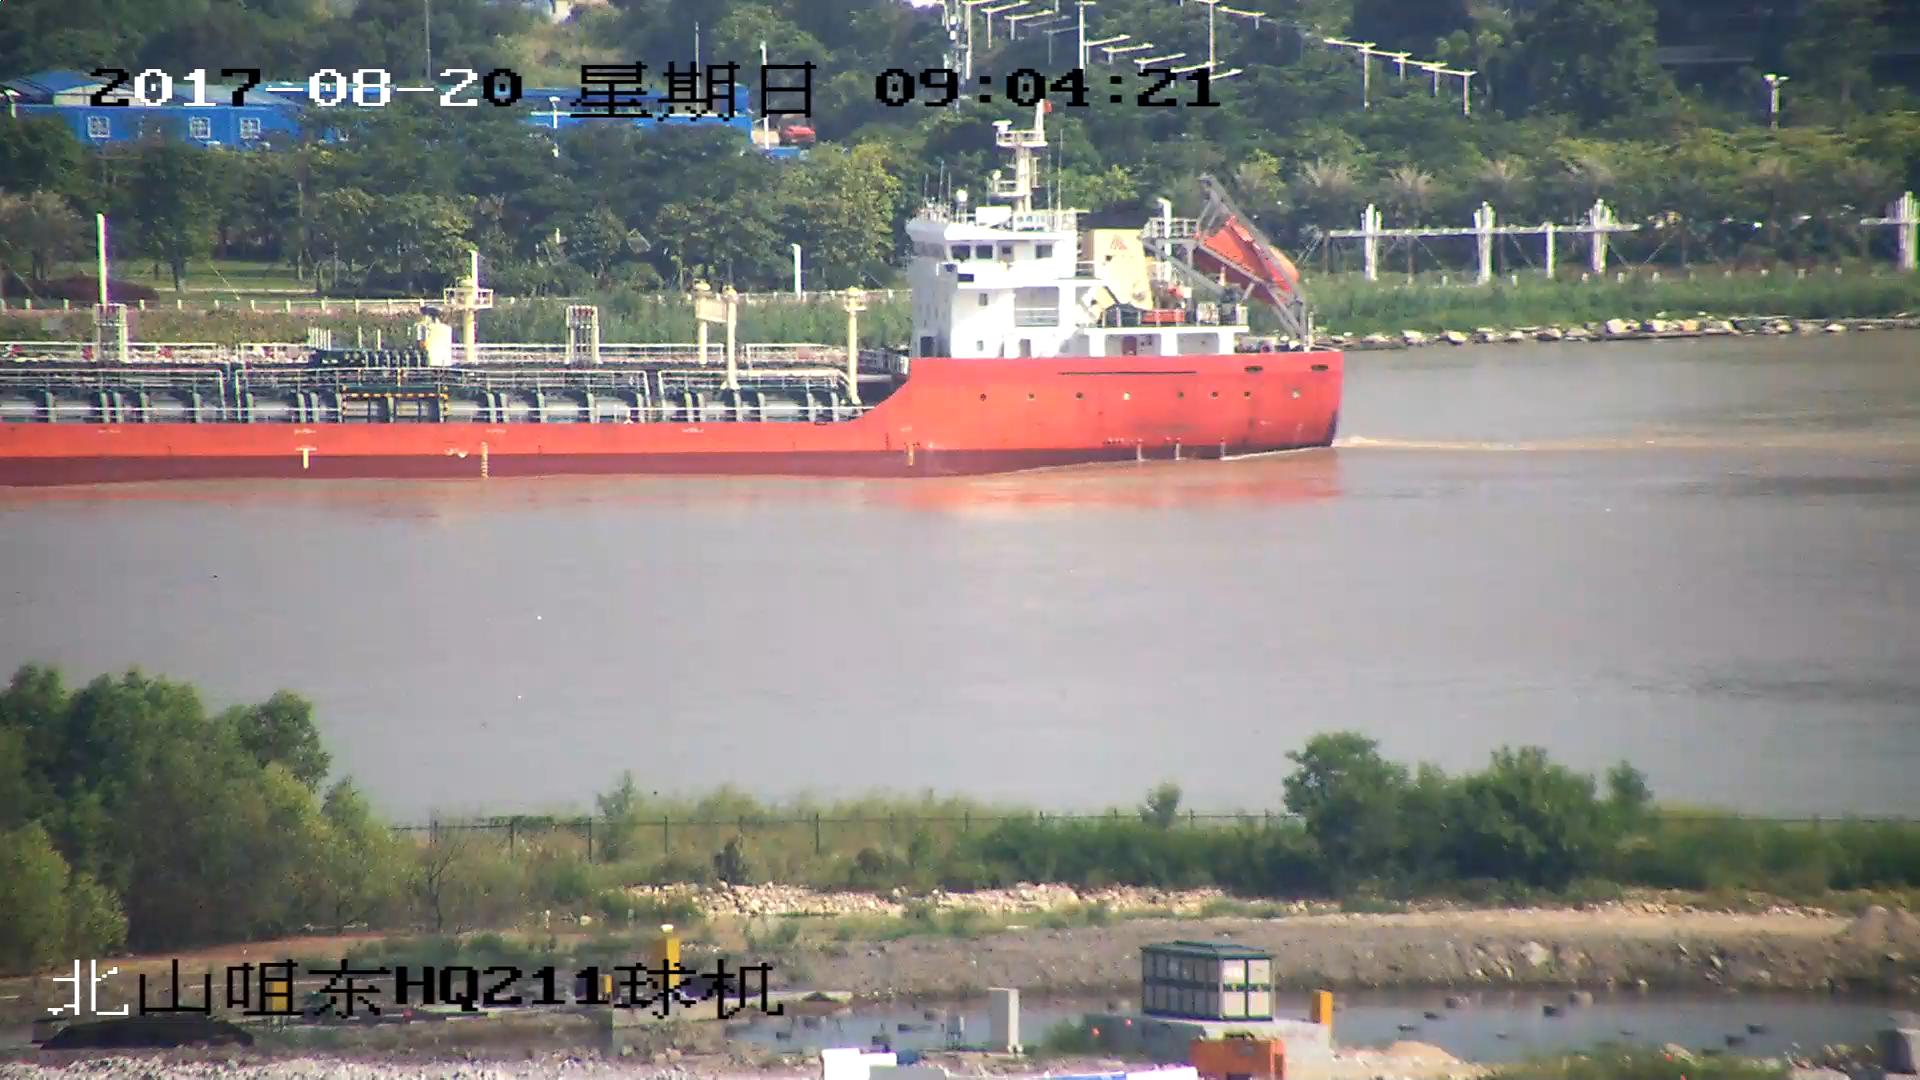general cargo ship: (1, 127, 1357, 484)
